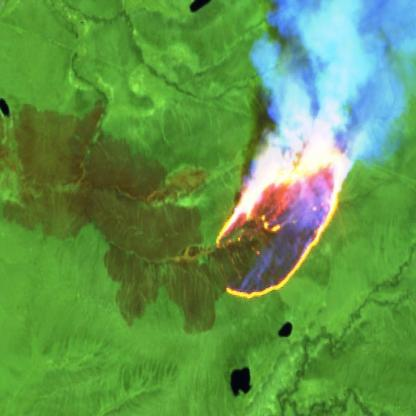fire: (217, 107, 359, 305)
